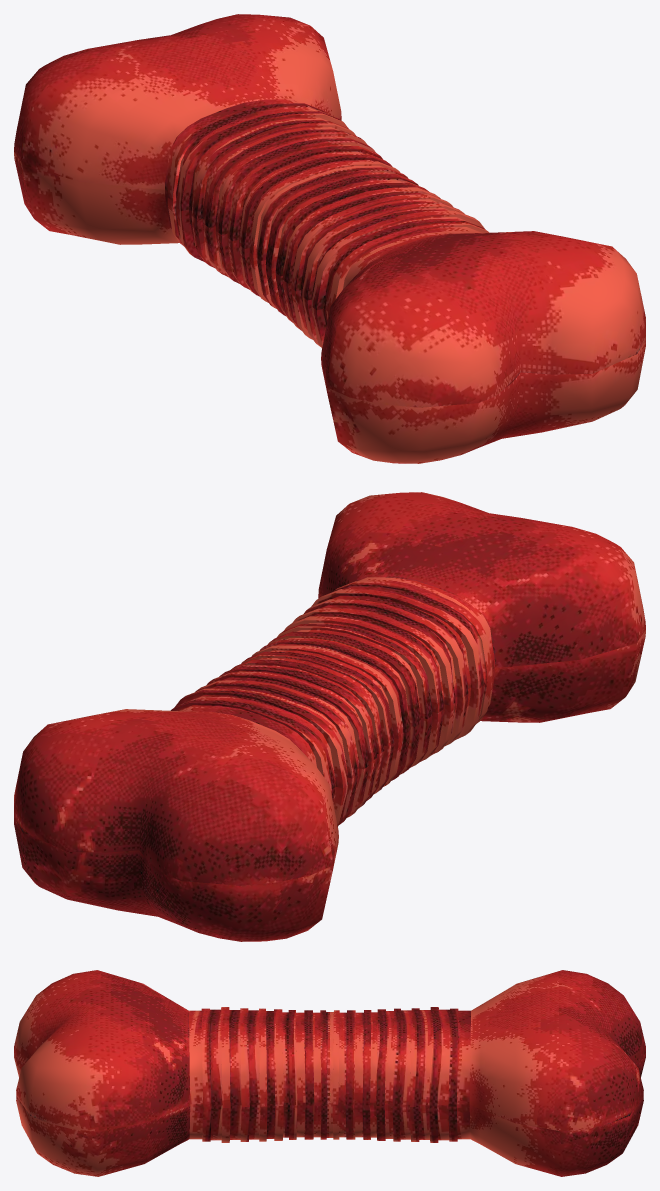
The model's file is hueso.glb.
3 views of the same model, one above another, from view 1: azimuth 30°, elevation 25°; view 2: azimuth 150°, elevation 25°; view 3: azimuth 270°, elevation 25° (orthographic). The views are drawn at different scales.
Visible parts, largest first — view 1: bone; view 2: bone; view 3: bone.
Part boxes in pixels (box(x1,y1,x2,y2)): bone: box(14, 14, 645, 463); bone: box(14, 492, 645, 941); bone: box(14, 970, 645, 1176).
Size of the model in its own units: 0.3008 by 0.1675 by 0.6931.
Materials: 1 (1 with a texture image).
